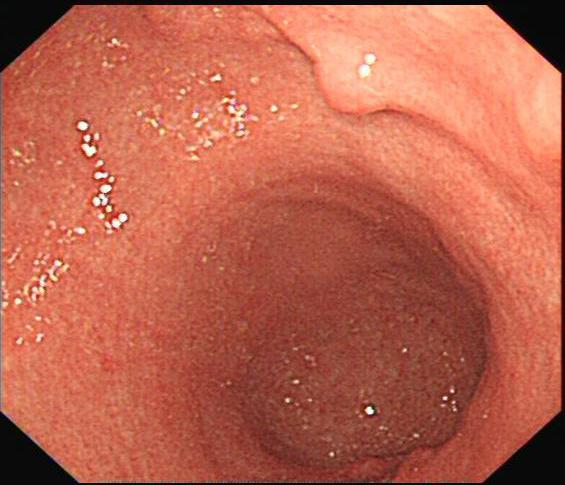Polyp: (309, 47, 390, 121)
